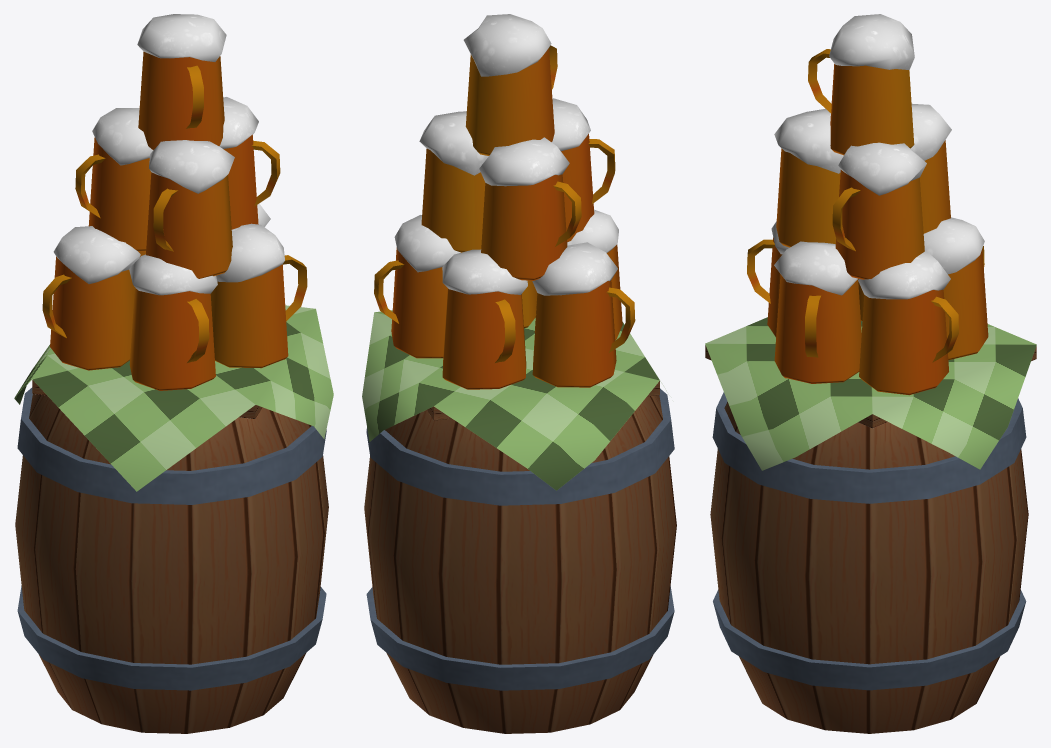
File: Barrel_Beer_Mountain_Art.fbx
3 views of the same model, side by side, from view 1: azimuth 30°, elevation 25°; view 2: azimuth 150°, elevation 25°; view 3: azimuth 270°, elevation 25° (orthographic).
Parts seen in each view (by area): view 1: Oktoberfest_Barrel_Beer_Mountain; view 2: Oktoberfest_Barrel_Beer_Mountain; view 3: Oktoberfest_Barrel_Beer_Mountain.
Part boxes in pixels (x1=…): Oktoberfest_Barrel_Beer_Mountain: x1=14, y1=14, x2=333, y2=733; Oktoberfest_Barrel_Beer_Mountain: x1=362, y1=14, x2=676, y2=733; Oktoberfest_Barrel_Beer_Mountain: x1=705, y1=14, x2=1036, y2=733.
Bounding box in the file's own units: 89.59 × 199 × 89.81.
